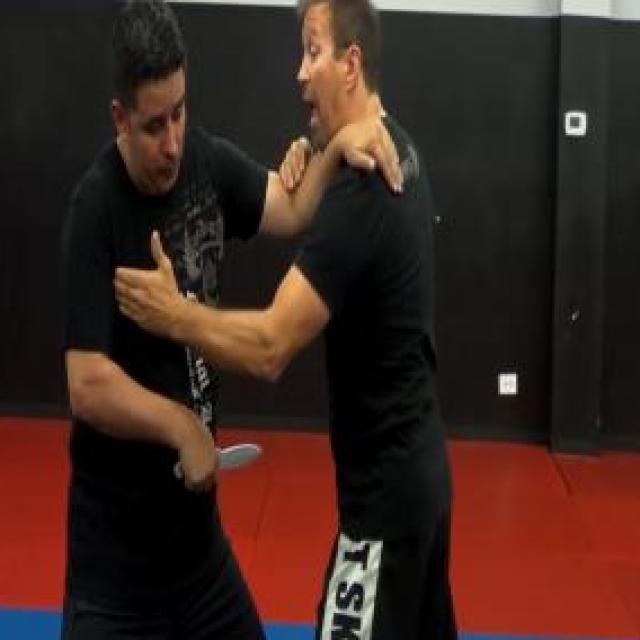knife: (171, 437, 264, 491)
